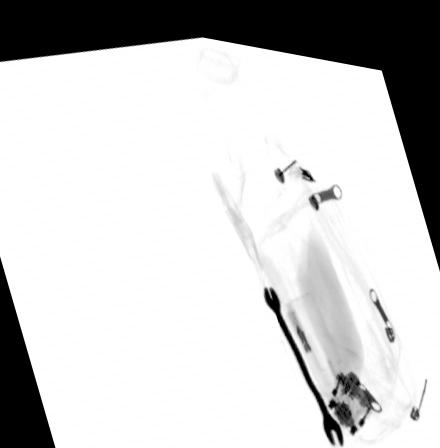Wrench: (261, 275, 343, 436)
